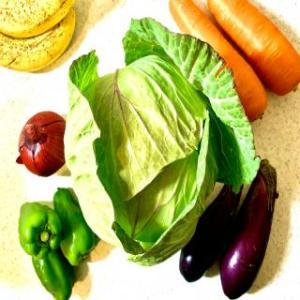cabbage: (60, 17, 258, 270)
carrot: (168, 1, 268, 123), (206, 0, 300, 96)
eggplant: (220, 157, 280, 299), (180, 179, 244, 282)
